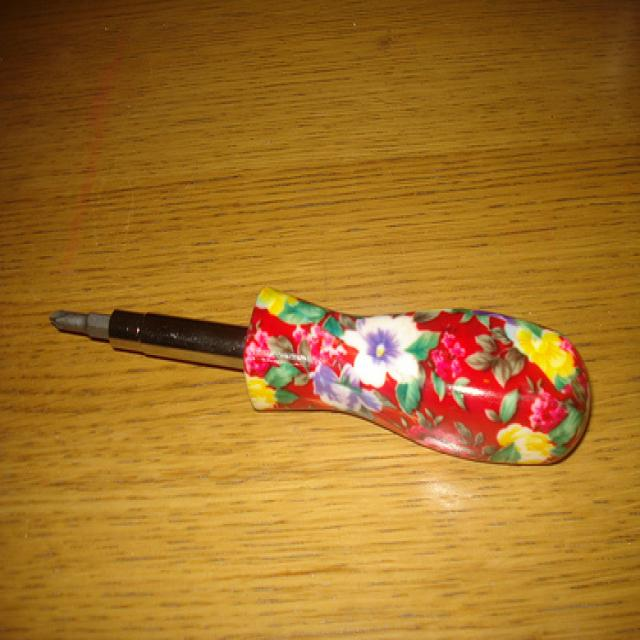screw driver: (5, 262, 640, 505)
